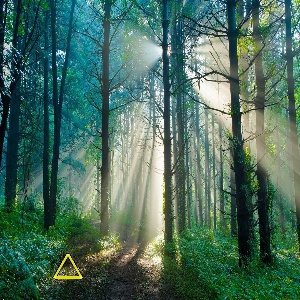triangle: (51, 250, 85, 282)
